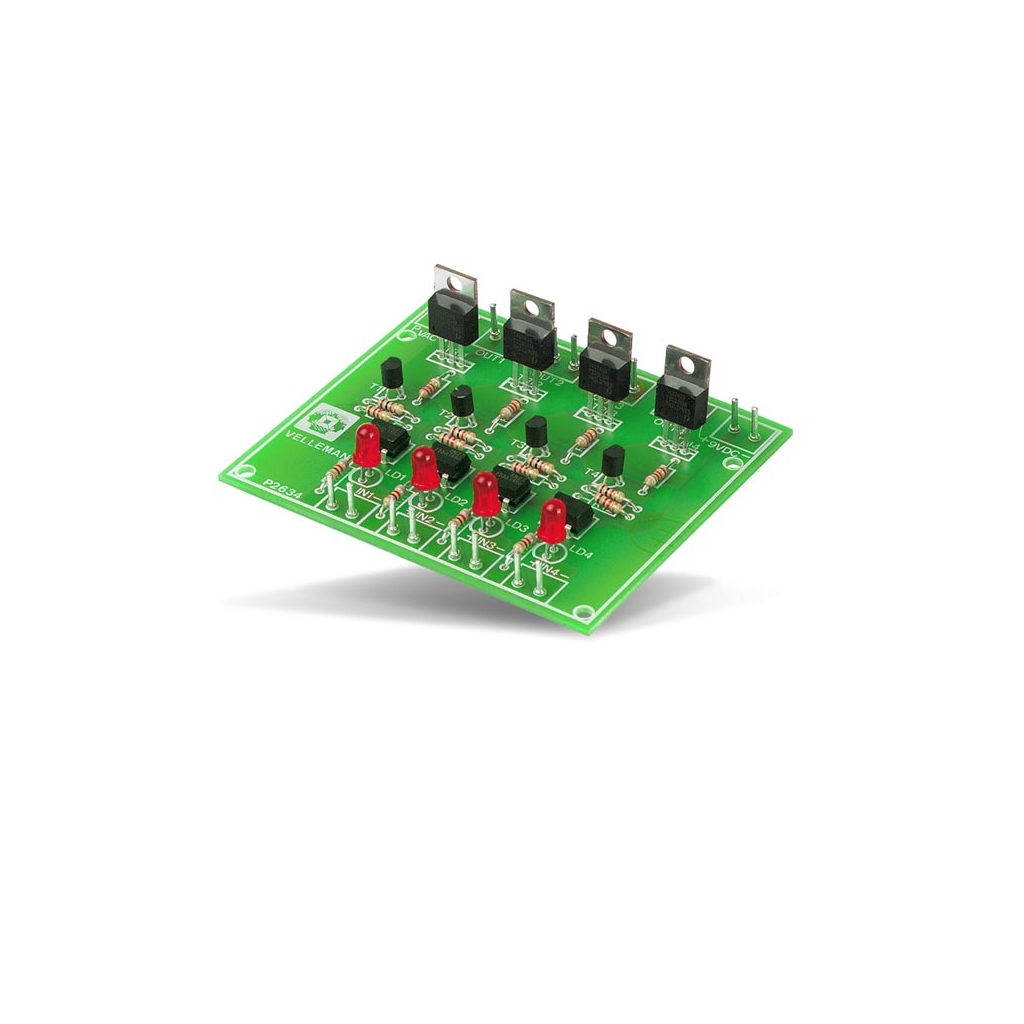LED: (348, 421, 383, 471), (409, 443, 443, 492), (469, 469, 503, 518), (535, 497, 568, 546)
Resistor: (446, 424, 482, 446), (525, 454, 558, 477), (496, 397, 524, 424), (641, 463, 670, 489), (436, 430, 470, 452), (572, 425, 599, 452), (321, 458, 349, 484), (415, 375, 443, 401), (592, 493, 624, 515), (595, 483, 629, 503), (510, 531, 536, 555), (376, 396, 407, 416), (508, 460, 539, 479), (382, 483, 406, 507), (446, 507, 470, 531), (364, 403, 392, 422)
